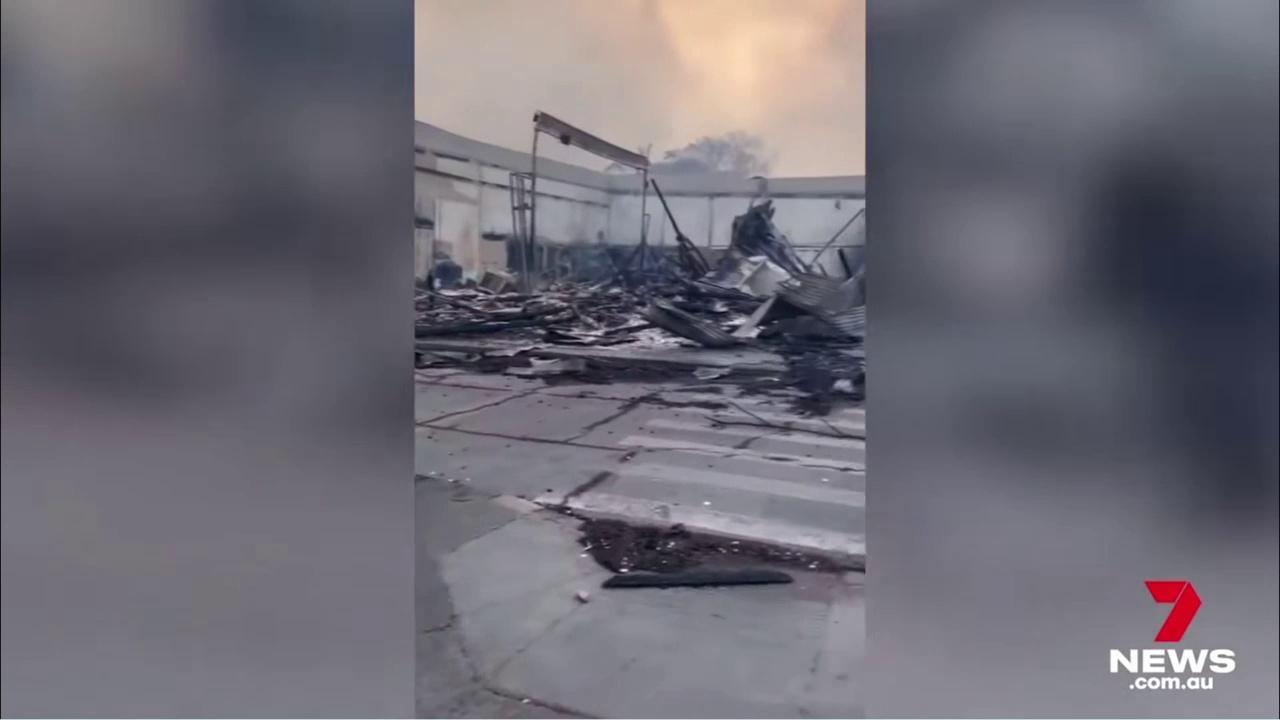smoke: (416, 0, 865, 176)
